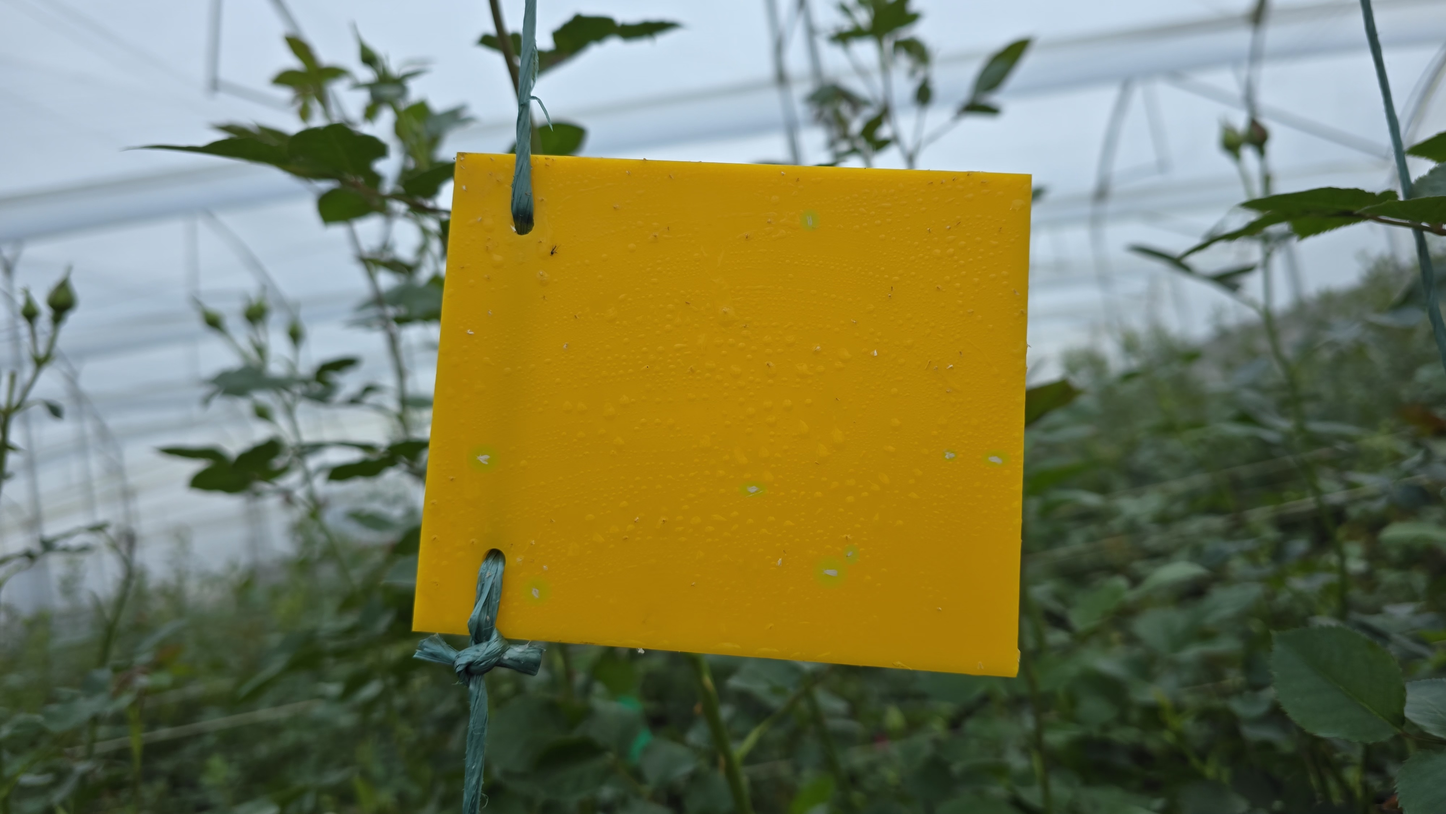WF: (817, 560, 843, 584), (525, 580, 547, 602), (472, 448, 495, 469), (985, 451, 1006, 465), (742, 483, 763, 495), (802, 212, 817, 228), (845, 547, 857, 562), (944, 450, 955, 460), (466, 328, 476, 337), (870, 348, 879, 358), (775, 557, 784, 567), (946, 363, 954, 371), (510, 225, 517, 234), (543, 564, 549, 573), (462, 185, 469, 192)
